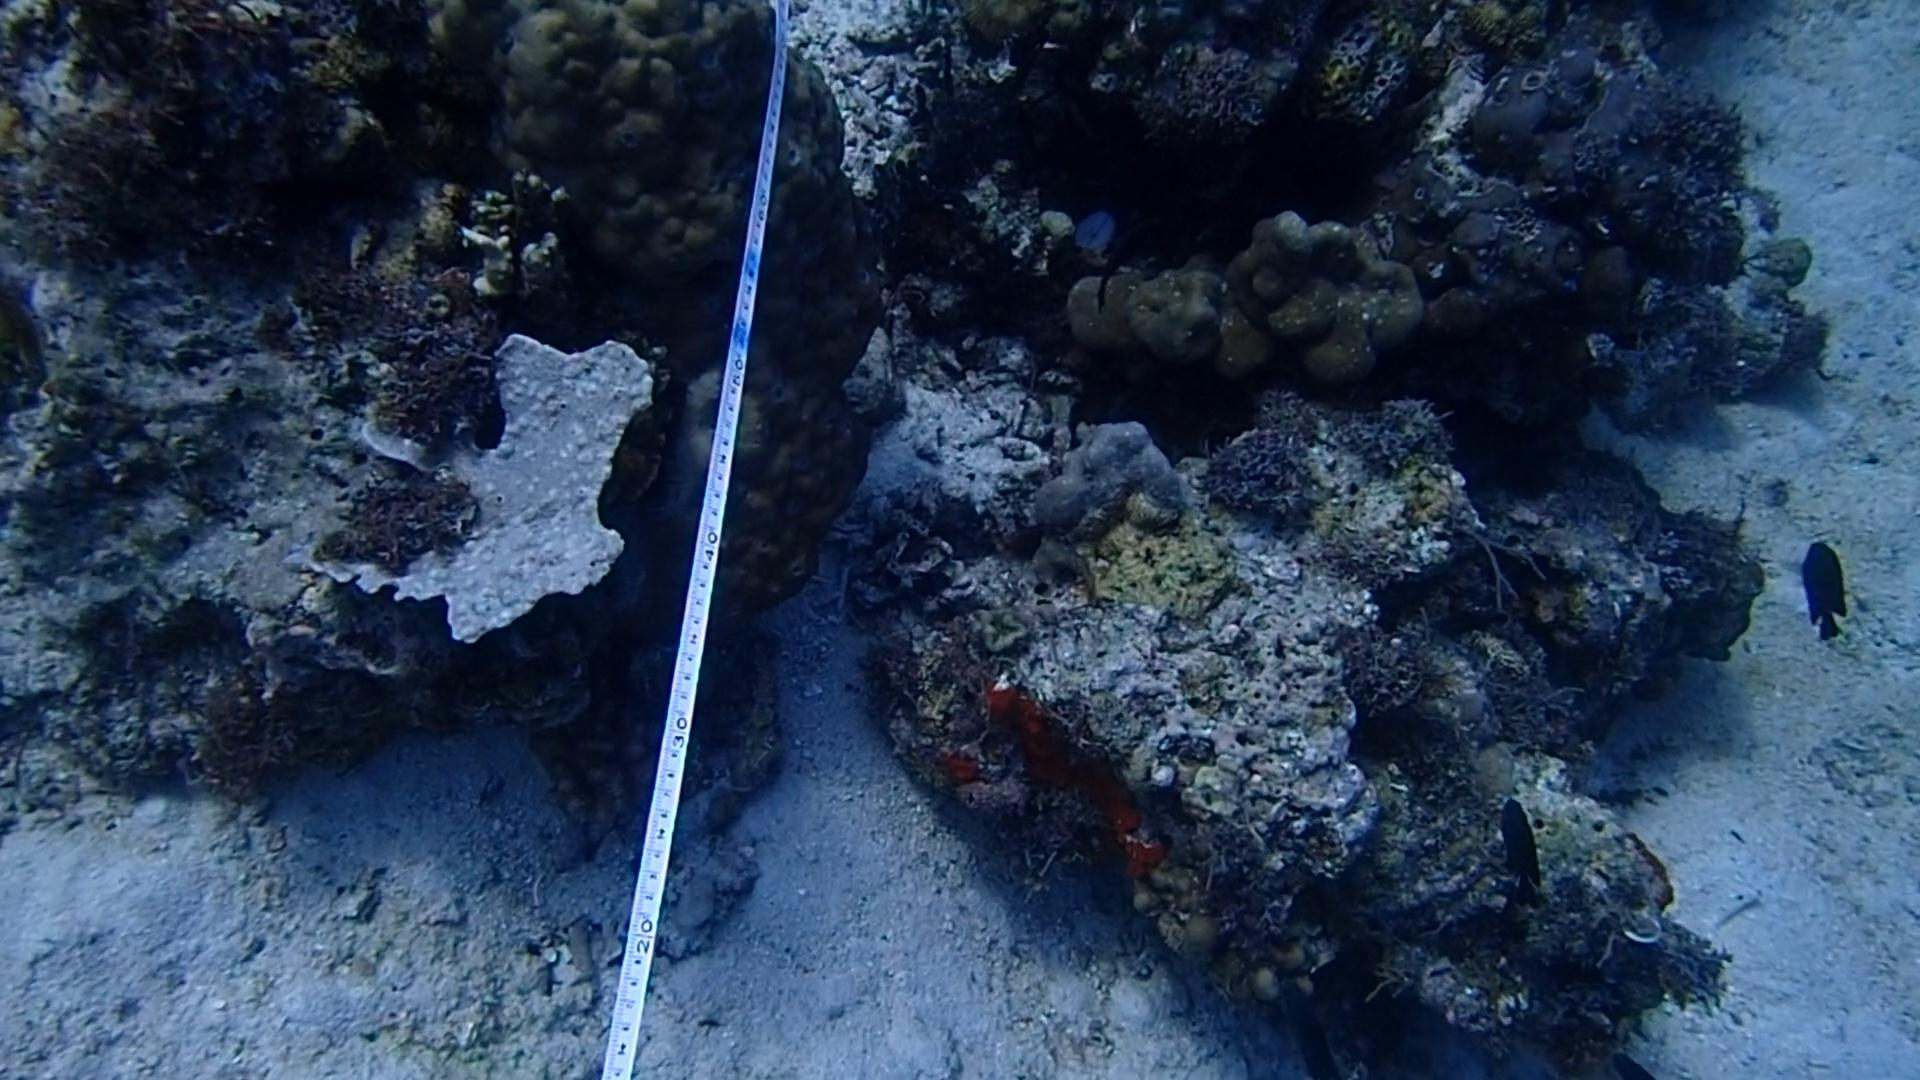Dark Fish: (1785, 524, 1863, 647), (1489, 790, 1561, 907)
